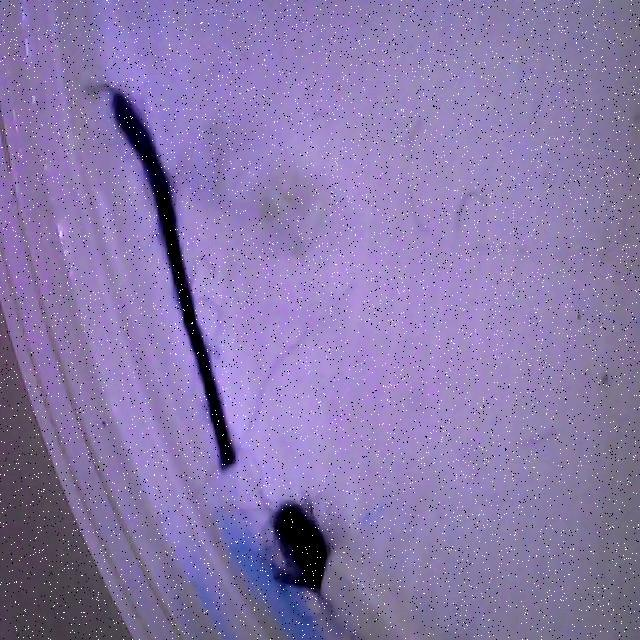fibers: (99, 74, 239, 476)
